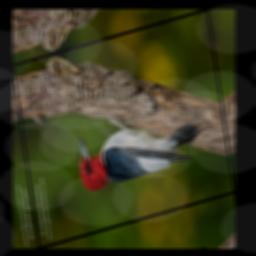Woodpecker: (74, 87, 214, 199)
